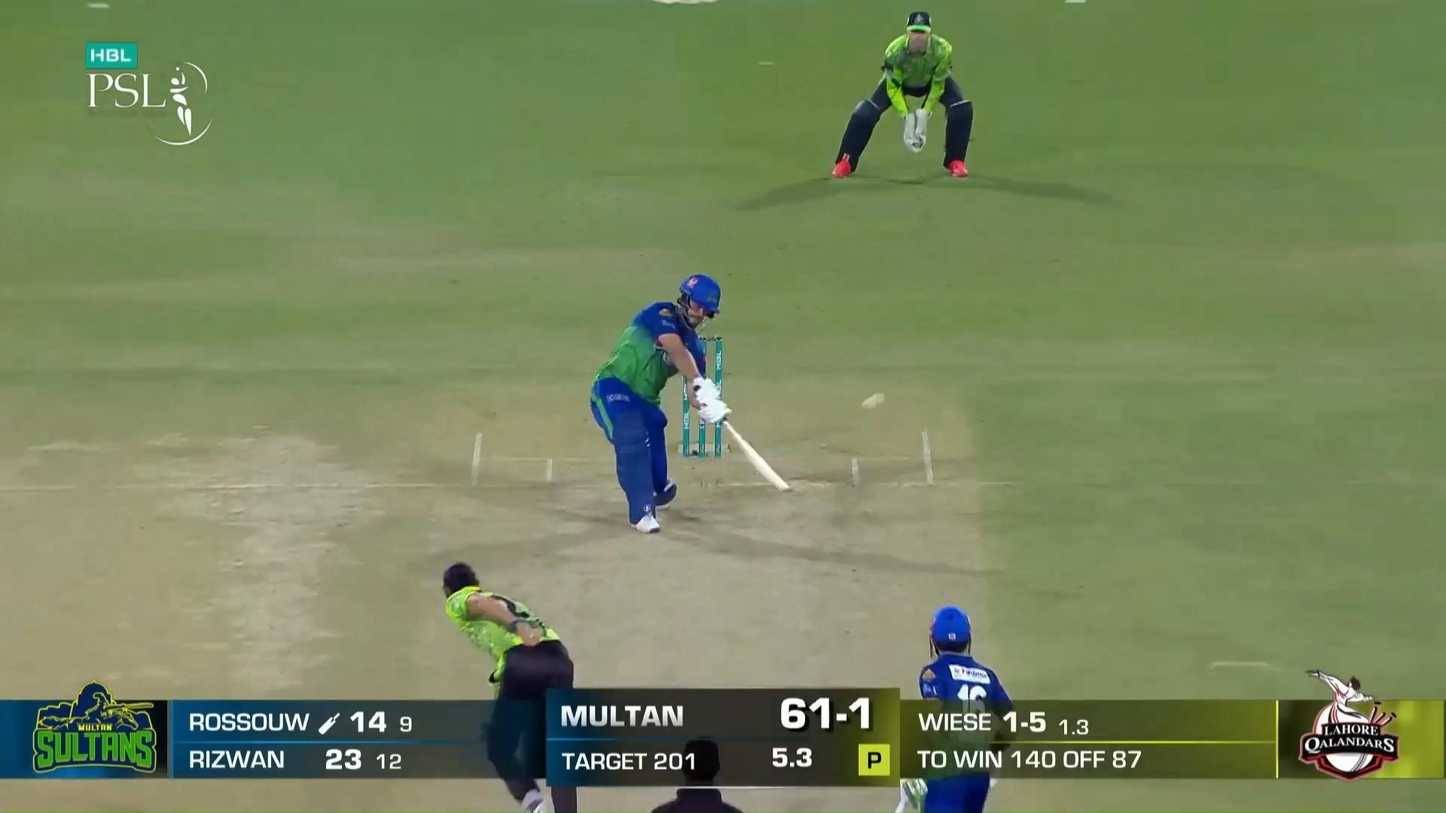batsman: (591, 274, 793, 536)
